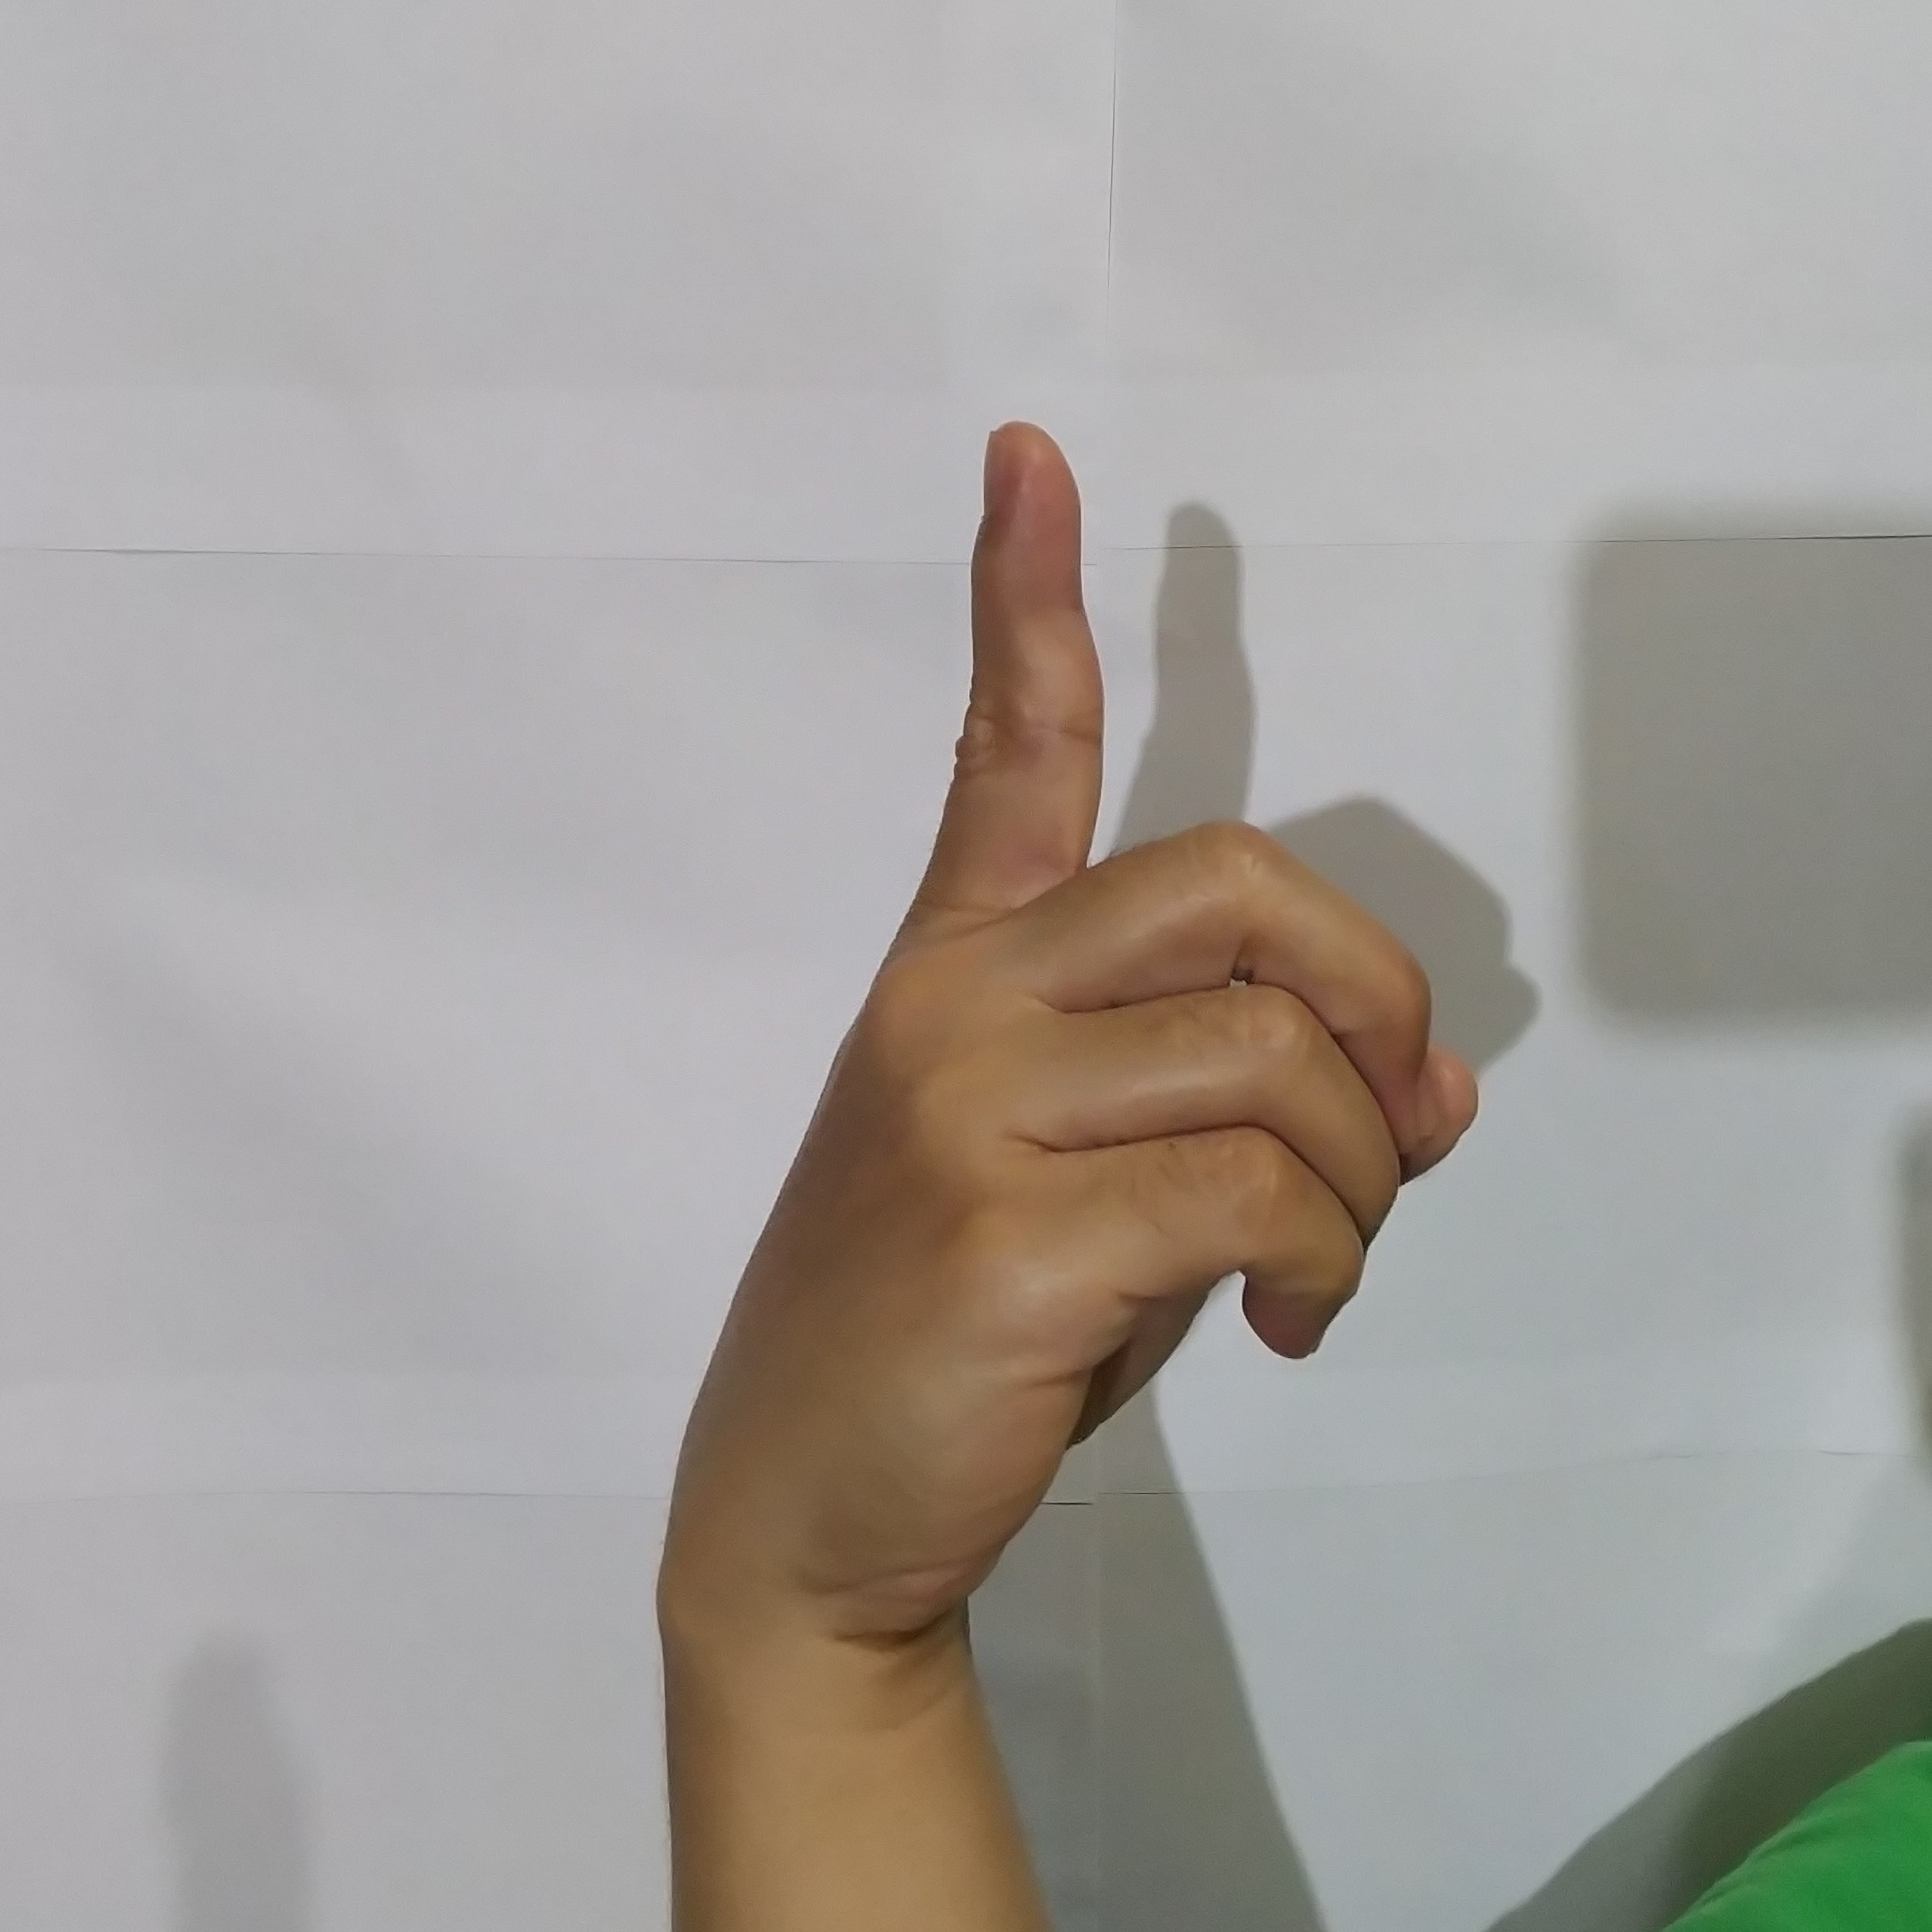D: (672, 396, 1499, 1617)
